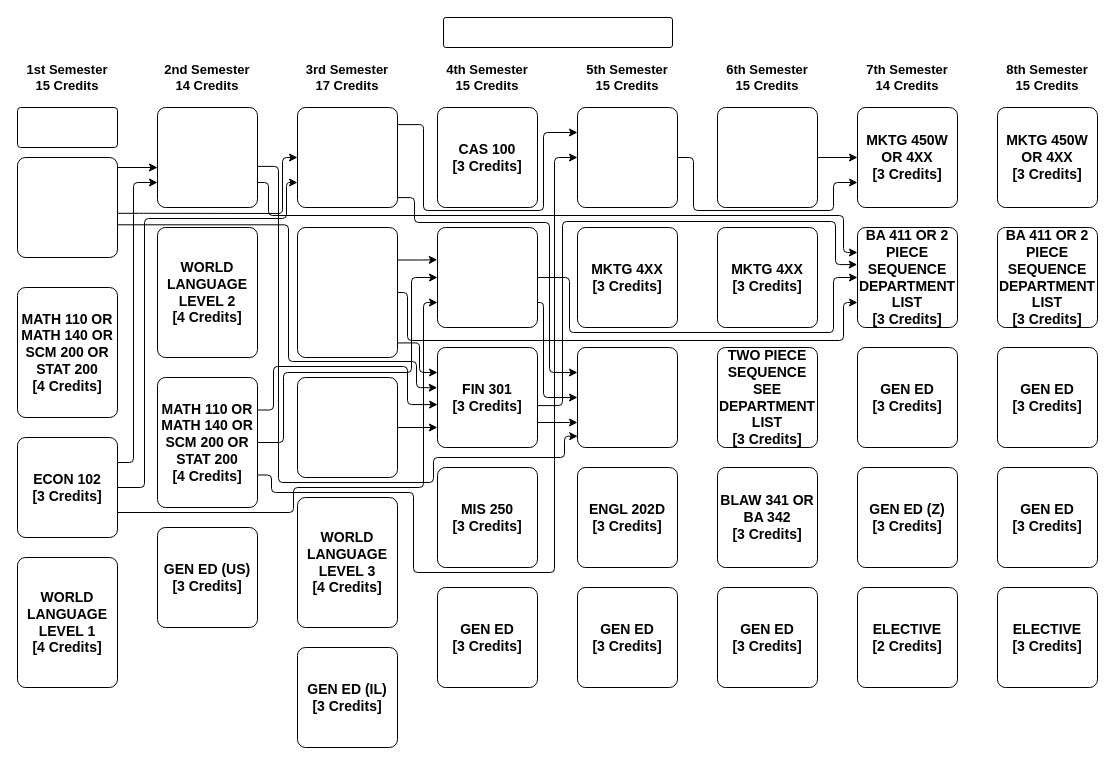
This 1115x765 diagram has some shape labels left out. Here are the shapes that lost their labels. From the top down, the box of each, then its label:
(442, 16, 672, 48): Marketing
(16, 106, 118, 148): PSU 6 [1 Credit]
(156, 106, 258, 208): MGMT 301 [3 Credits]
(296, 106, 398, 208): MKTG 301 [3 Credits]
(576, 106, 678, 208): MKTG 330 (or 342) (BA 303 PRE REQ) [3 Credits]
(716, 106, 818, 208): MKTG 342 (or 330) (BA 303 PRE REQ) [3 Credits]
(16, 156, 118, 258): ENGL 15 OR ENGL 30 OR ESL 15 [3 Credits]
(296, 226, 398, 358): ACCTG 211 [4 Credits]
(436, 226, 538, 328): SCM 301 [3 Credits]
(576, 346, 678, 448): BLAW 341 OR BA 342 (SCM 301 or BA 302 pre req) [3 Credits]
(296, 376, 398, 478): ECON 104 [3 Credits]
